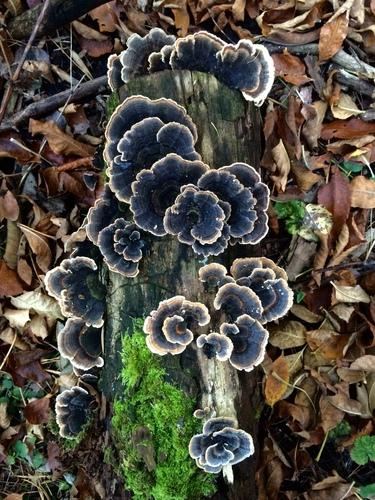Non-edible Mushroom: (44, 27, 295, 483), (187, 415, 255, 484), (142, 294, 210, 356)
